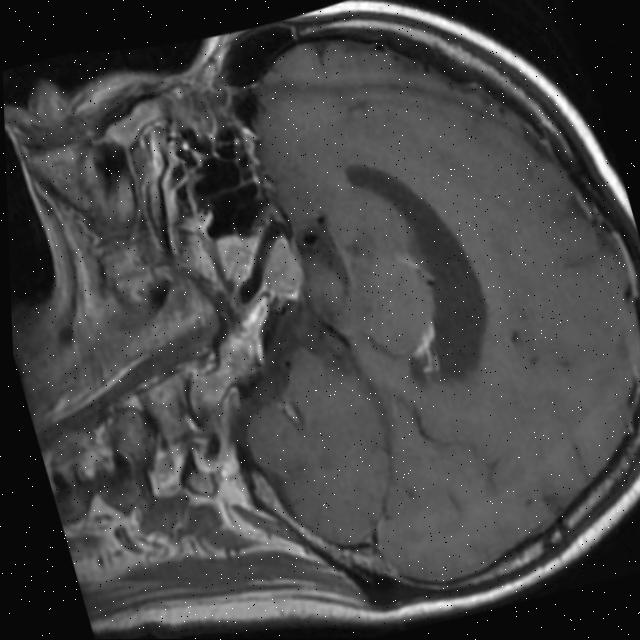Pituitary: (252, 231, 308, 301)
